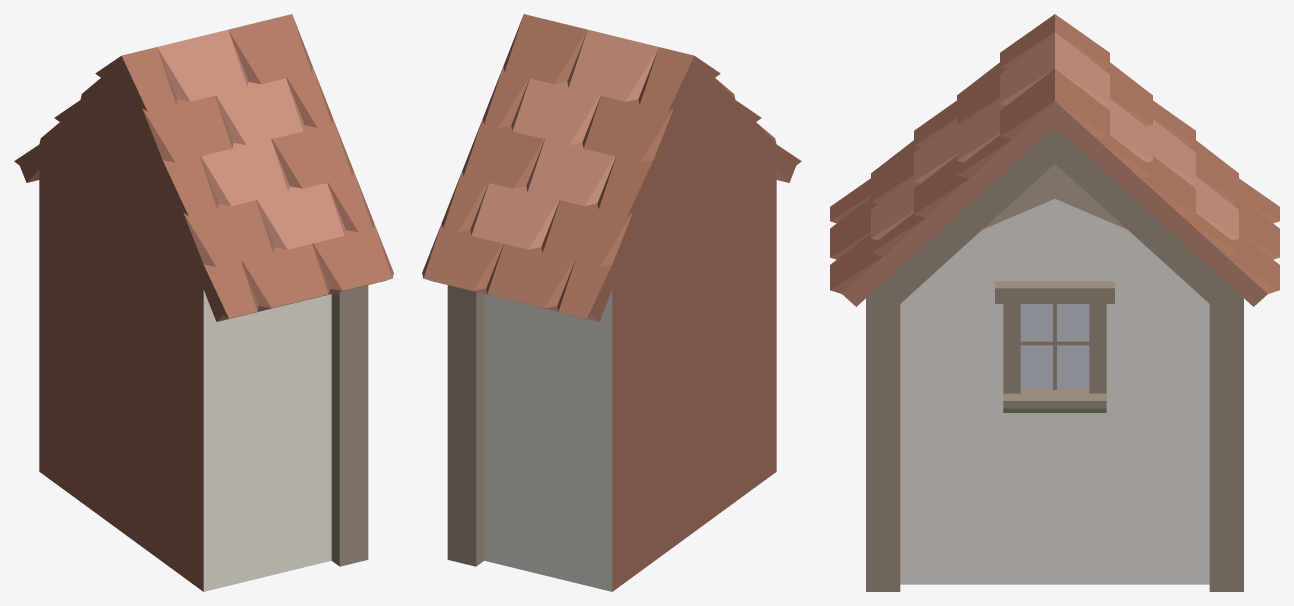
The model's file is Kit_Window_Upper_Straight.glb.
3 views of the same model, side by side, from view 1: azimuth 30°, elevation 25°; view 2: azimuth 150°, elevation 25°; view 3: azimuth 270°, elevation 25° (orthographic). The views are drawn at different scales.
Visible parts, largest first — view 1: object5, object3; view 2: object5, object3; view 3: object5, object3, object2, object1, object4.
Part boxes in pixels (left/top/right/bottom): object5: left=14, top=14, right=393, bottom=591; object3: left=331, top=285, right=368, bottom=566; object5: left=422, top=14, right=801, bottom=591; object3: left=447, top=285, right=484, bottom=566; object5: left=830, top=14, right=1279, bottom=584; object3: left=866, top=127, right=1243, bottom=591; object2: left=995, top=281, right=1114, bottom=412; object1: left=983, top=164, right=1126, bottom=229; object4: left=1020, top=304, right=1089, bottom=389.
Bounding box in the file's own units: 1.2 × 3.2 × 2.62.
